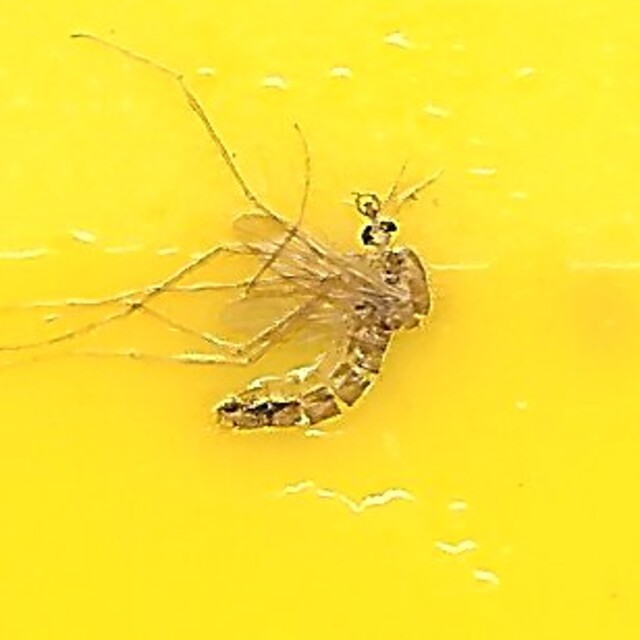Nematocera: (208, 195, 432, 445)
